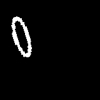chain: (12, 17, 31, 56)
